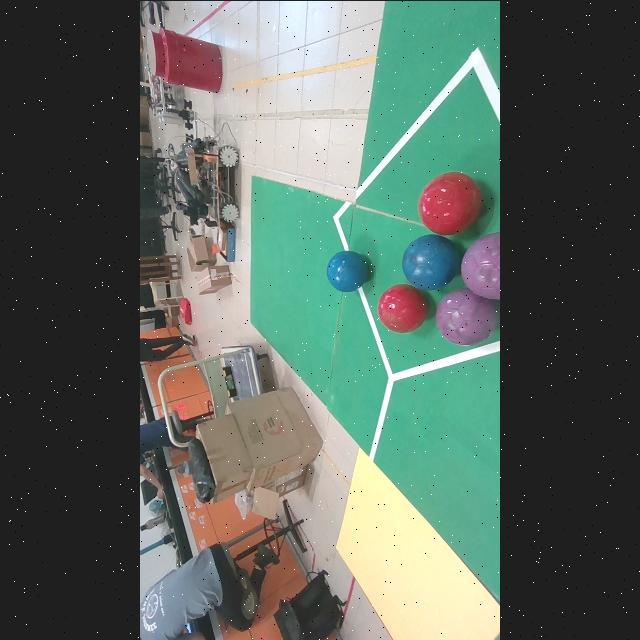B: (402, 234, 461, 289), (327, 251, 370, 291)
P: (436, 287, 499, 345), (462, 232, 500, 298)
R: (418, 171, 482, 234), (378, 284, 427, 332)
